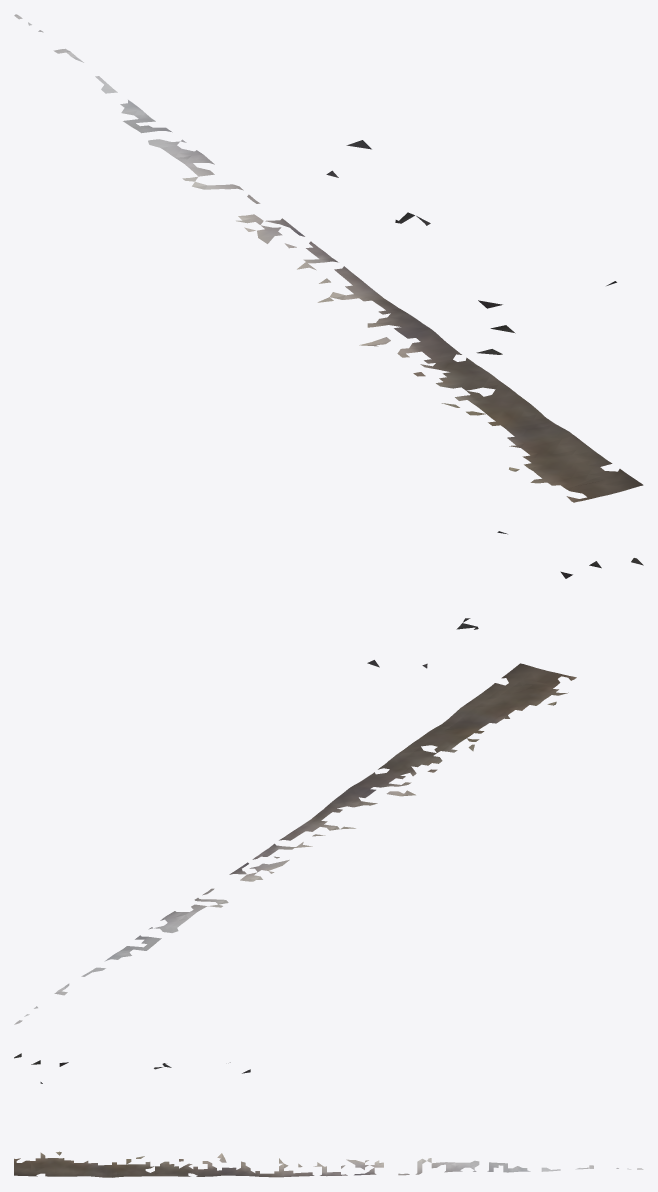
The model's file is coarse.glb.
3 views of the same model, one above another, from view 1: azimuth 30°, elevation 25°; view 2: azimuth 150°, elevation 25°; view 3: azimuth 270°, elevation 25° (orthographic). The views are drawn at different scales.
Bounding box in the file's own units: 0.3456 × 0.3862 × 2.34.
